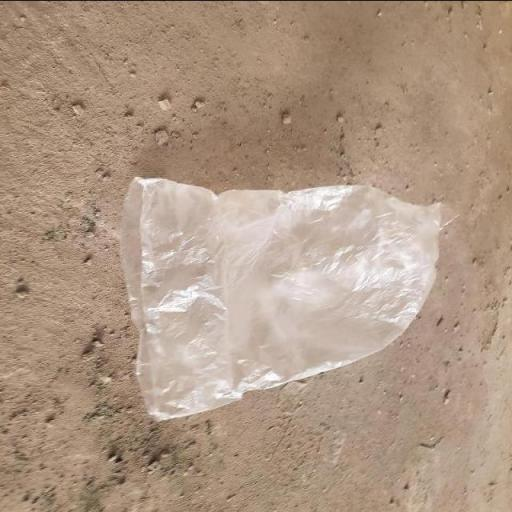plastic-bag: (120, 172, 462, 422)
